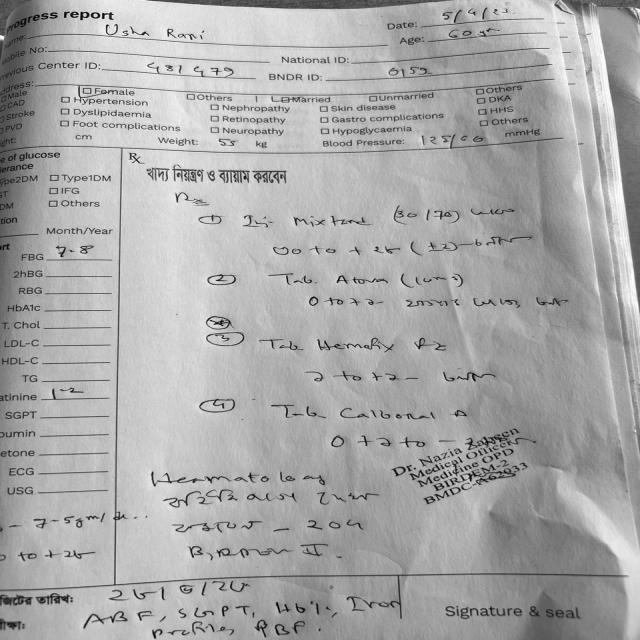medicine: (335, 402, 472, 424), (315, 334, 448, 356), (288, 212, 372, 230), (330, 272, 393, 290)
